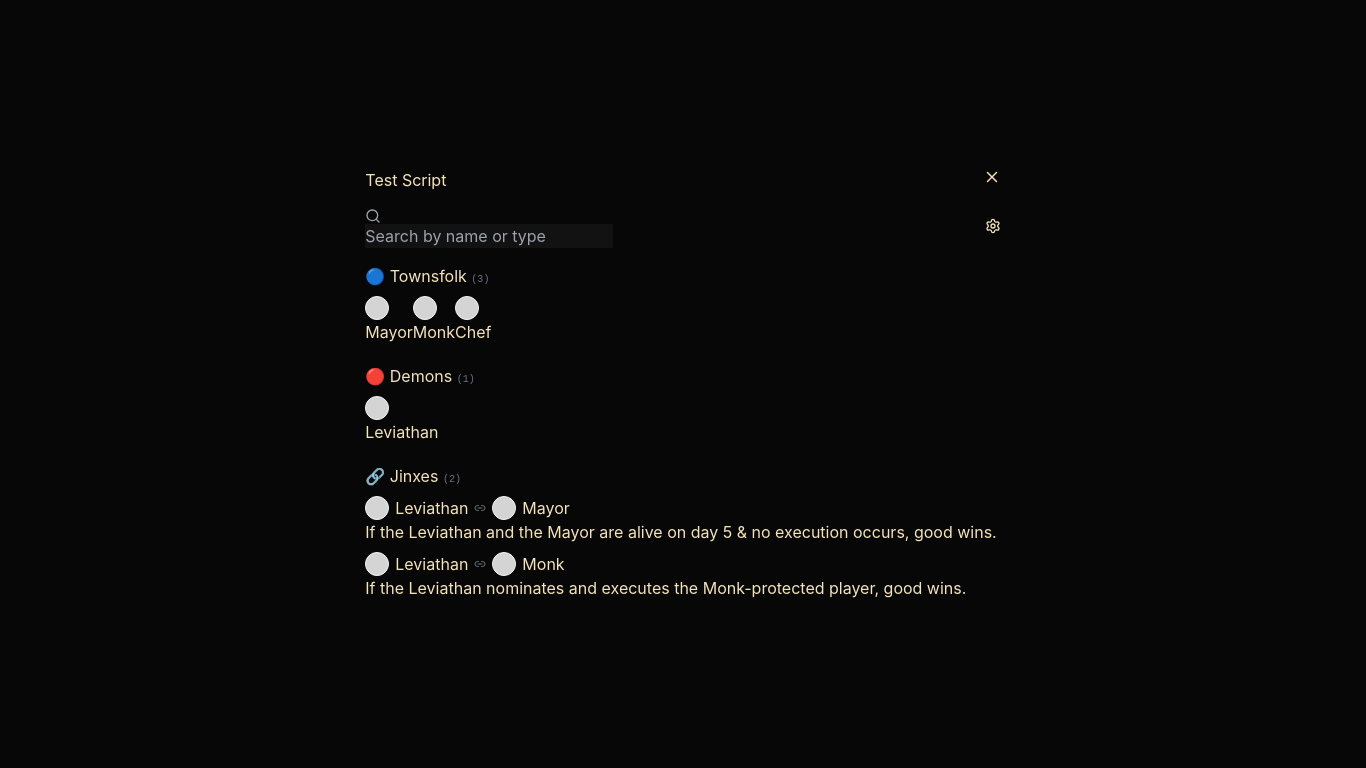
Test: ScriptCharactersModal jinxes › lists jinxes by default and lets the setting hide them
The image size is (1366, 768).
Expected: the element that starts with "🔗 Jinxes" is shown, [365,464,997,600]
Click the button named "View settings" at [993, 226], box [985,218,1001,234]
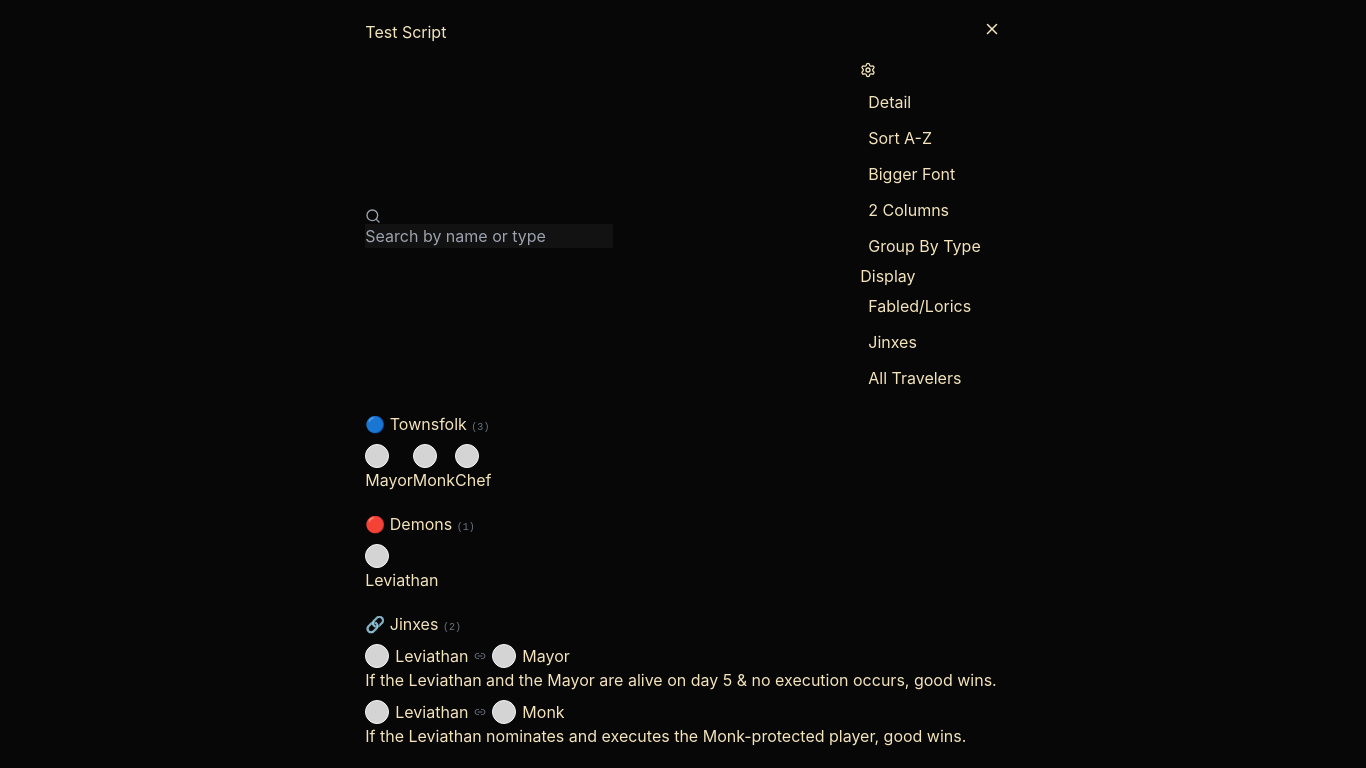
Click the checkbox labelled "Jinxes" at [893, 342], box [868,332,917,352]
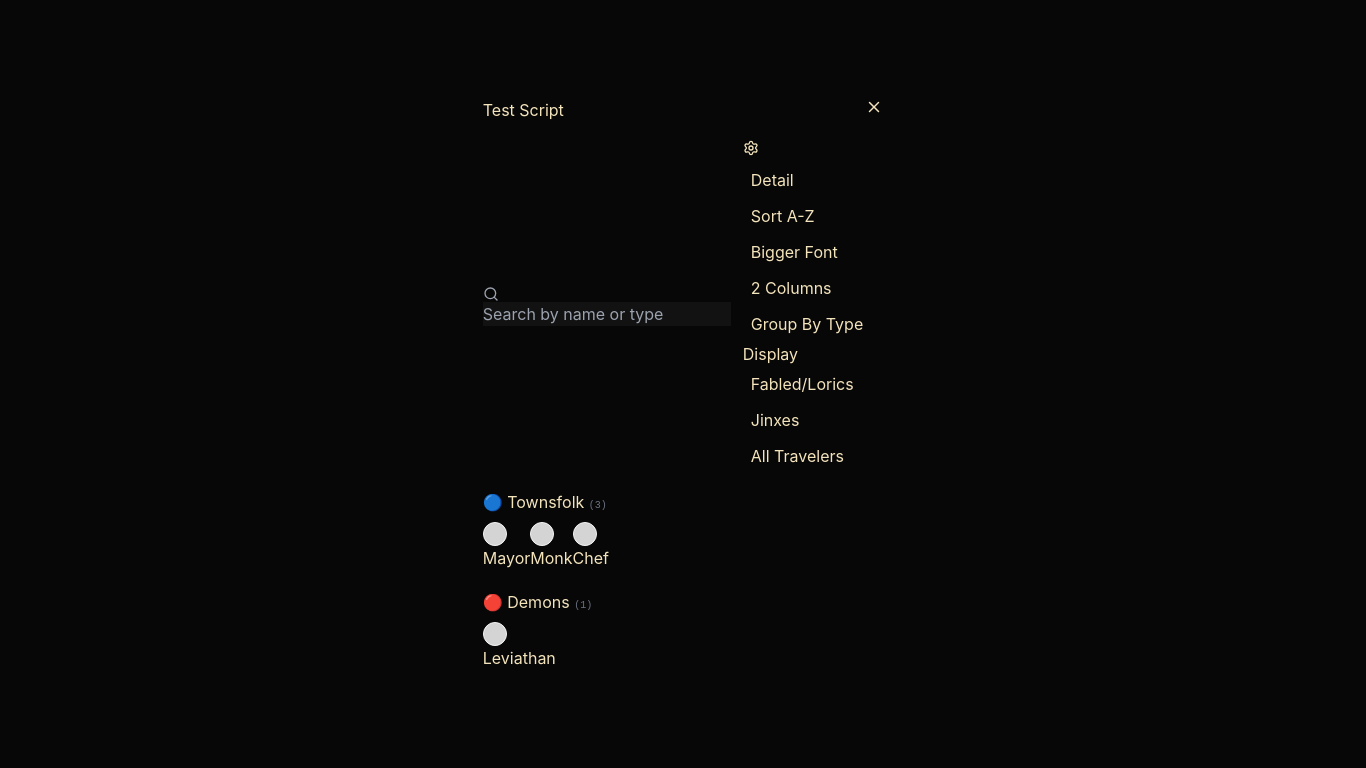
Click the checkbox labelled "Jinxes" at [775, 420], box [751,410,799,430]
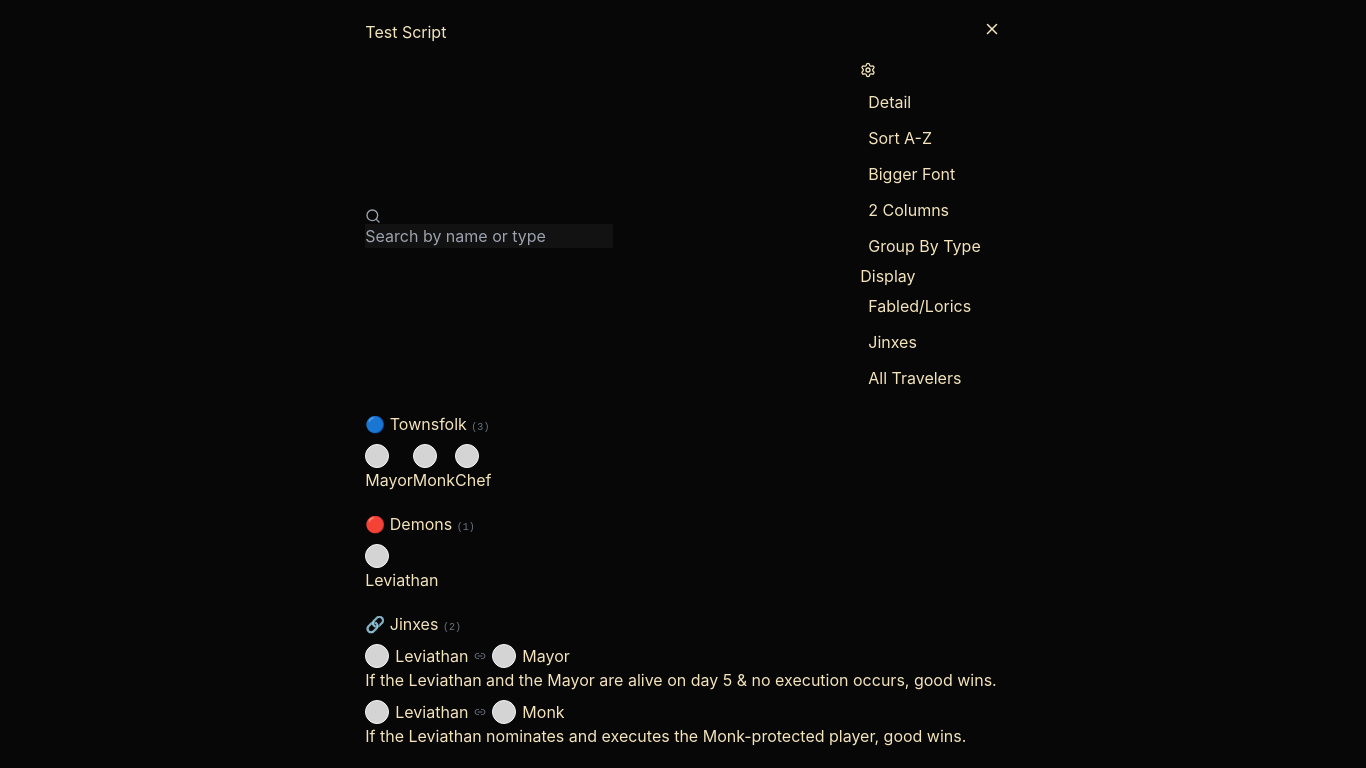
Expected: the element that starts with "🔗 Jinxes" is shown, [365,612,997,748]
